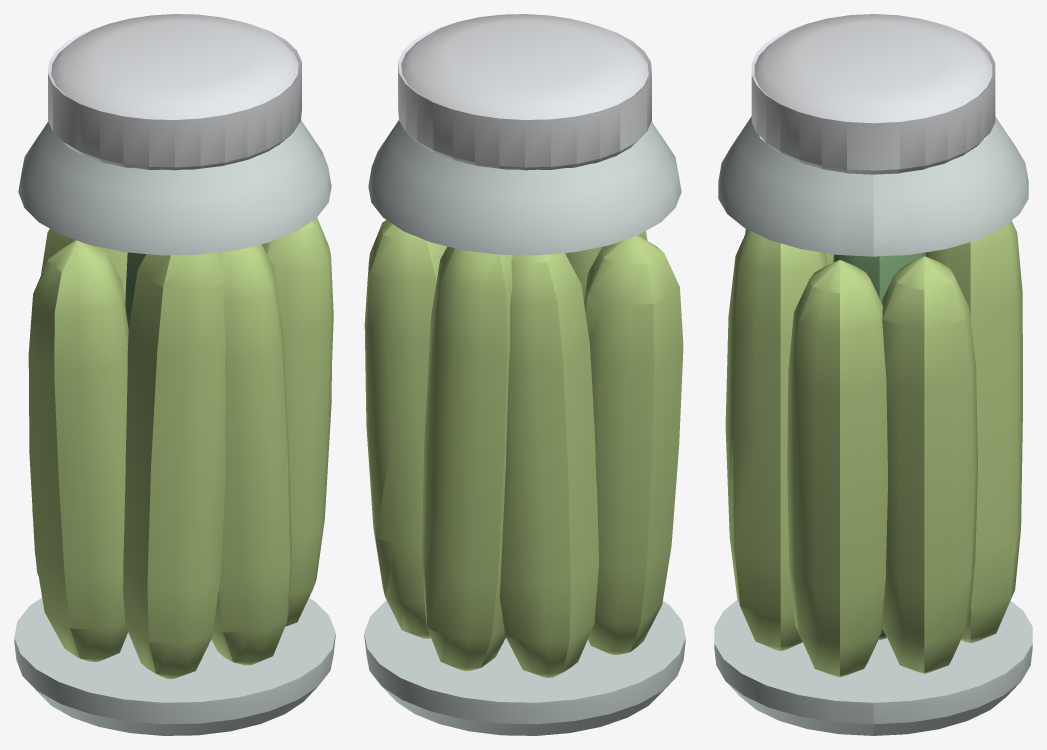
File: fresh-produce-and-groceries-pickle-jar-9426ac7e__24436.glb
3 renders of one model, left to right at view 1: azimuth 30°, elevation 25°; view 2: azimuth 150°, elevation 25°; view 3: azimuth 270°, elevation 25°, orthographic.
Parts seen in each view (by area): view 1: pickle-jar; view 2: pickle-jar; view 3: pickle-jar.
Boxes of the visible parts, left/top/right/bottom form: pickle-jar: left=14, top=14, right=335, bottom=735; pickle-jar: left=364, top=14, right=685, bottom=735; pickle-jar: left=714, top=14, right=1032, bottom=735.
Size of the model in its own units: 0.0786 by 0.1667 by 0.0774.
